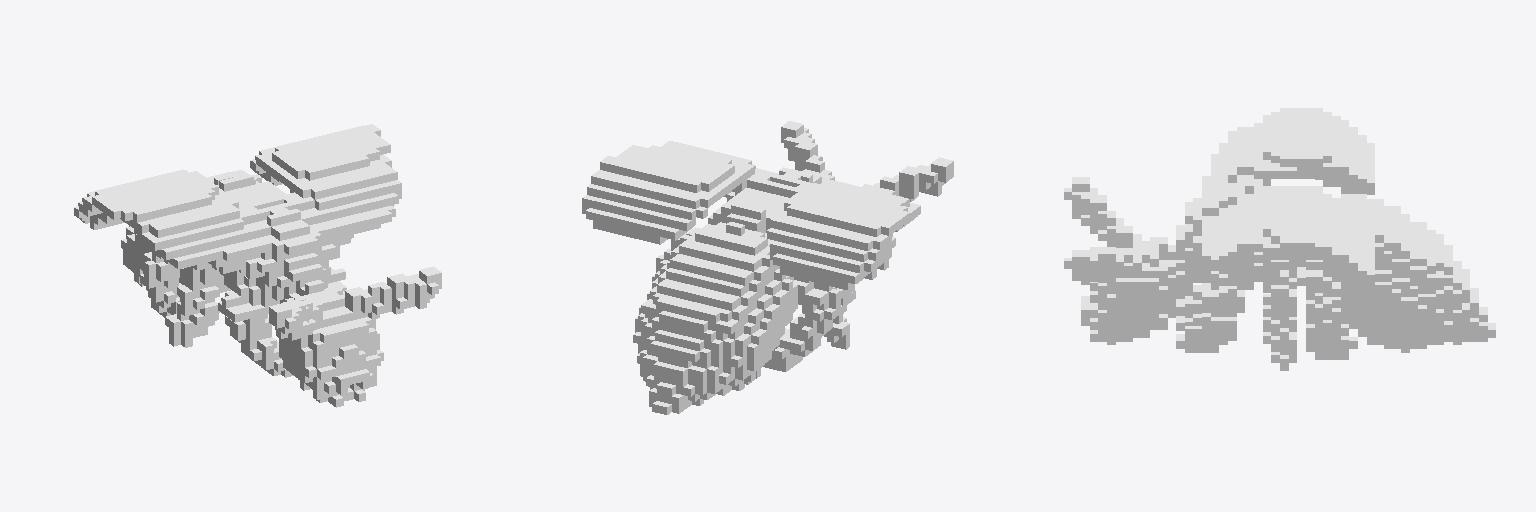
Rendered from wasp_dead_v1-2.obj.
3 renders of one model, left to right at view 1: azimuth 30°, elevation 25°; view 2: azimuth 150°, elevation 25°; view 3: azimuth 270°, elevation 25°, orthographic.
Visible parts, largest first — view 1: object 1; view 2: object 1; view 3: object 1.
Boxes of the visible parts, x1,y1,x2,y2 form: object 1: [74, 124, 441, 407]; object 1: [582, 121, 953, 414]; object 1: [1064, 108, 1495, 370].
Bounding box in the file's own units: 3.8 × 2 × 5.